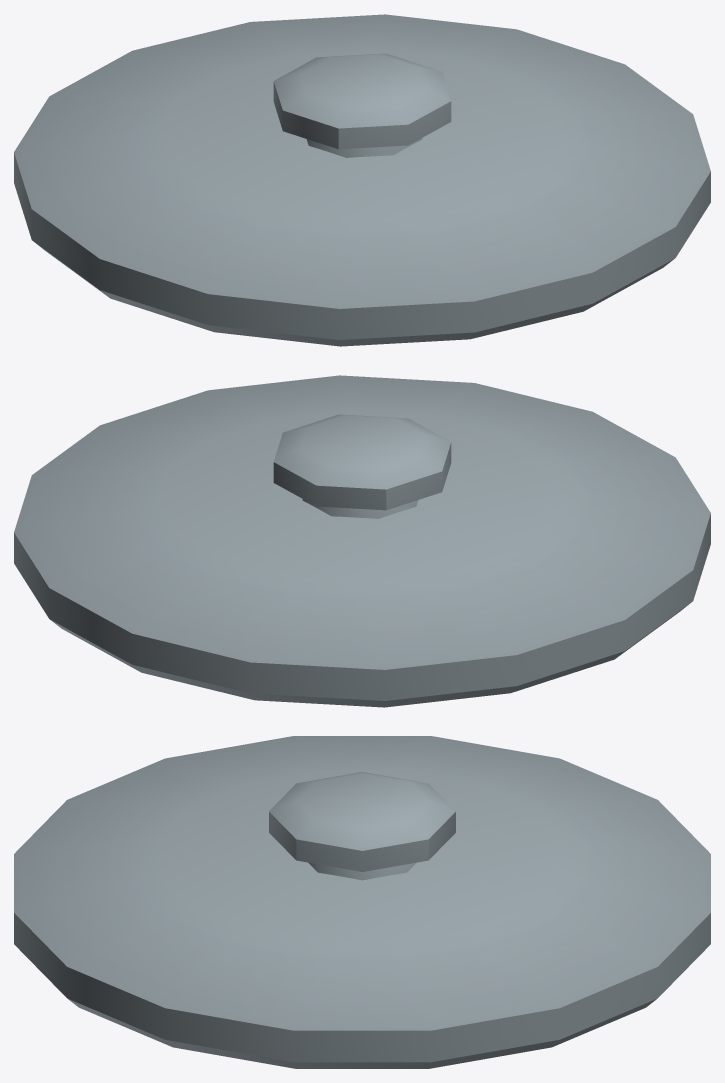
File: kay-lid_a.glb
3 renders of one model, top to bottom at view 1: azimuth 30°, elevation 25°; view 2: azimuth 150°, elevation 25°; view 3: azimuth 270°, elevation 25°, orthographic.
Parts seen in each view (by area): view 1: lid_A; view 2: lid_A; view 3: lid_A.
Boxes of the visible parts, x1=… form: lid_A: x1=14, y1=14, x2=710, y2=346; lid_A: x1=14, y1=375, x2=710, y2=707; lid_A: x1=14, y1=736, x2=710, y2=1068.
Size of the model in its own units: 0.22 by 0.0441 by 0.22.
1 material, 1 textured.
